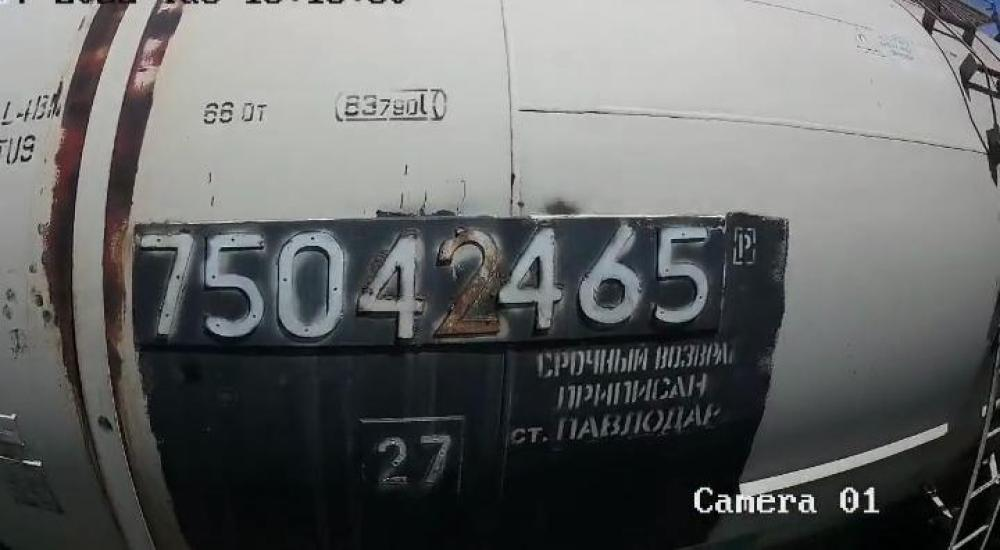Wagon-number: (138, 220, 713, 345)
